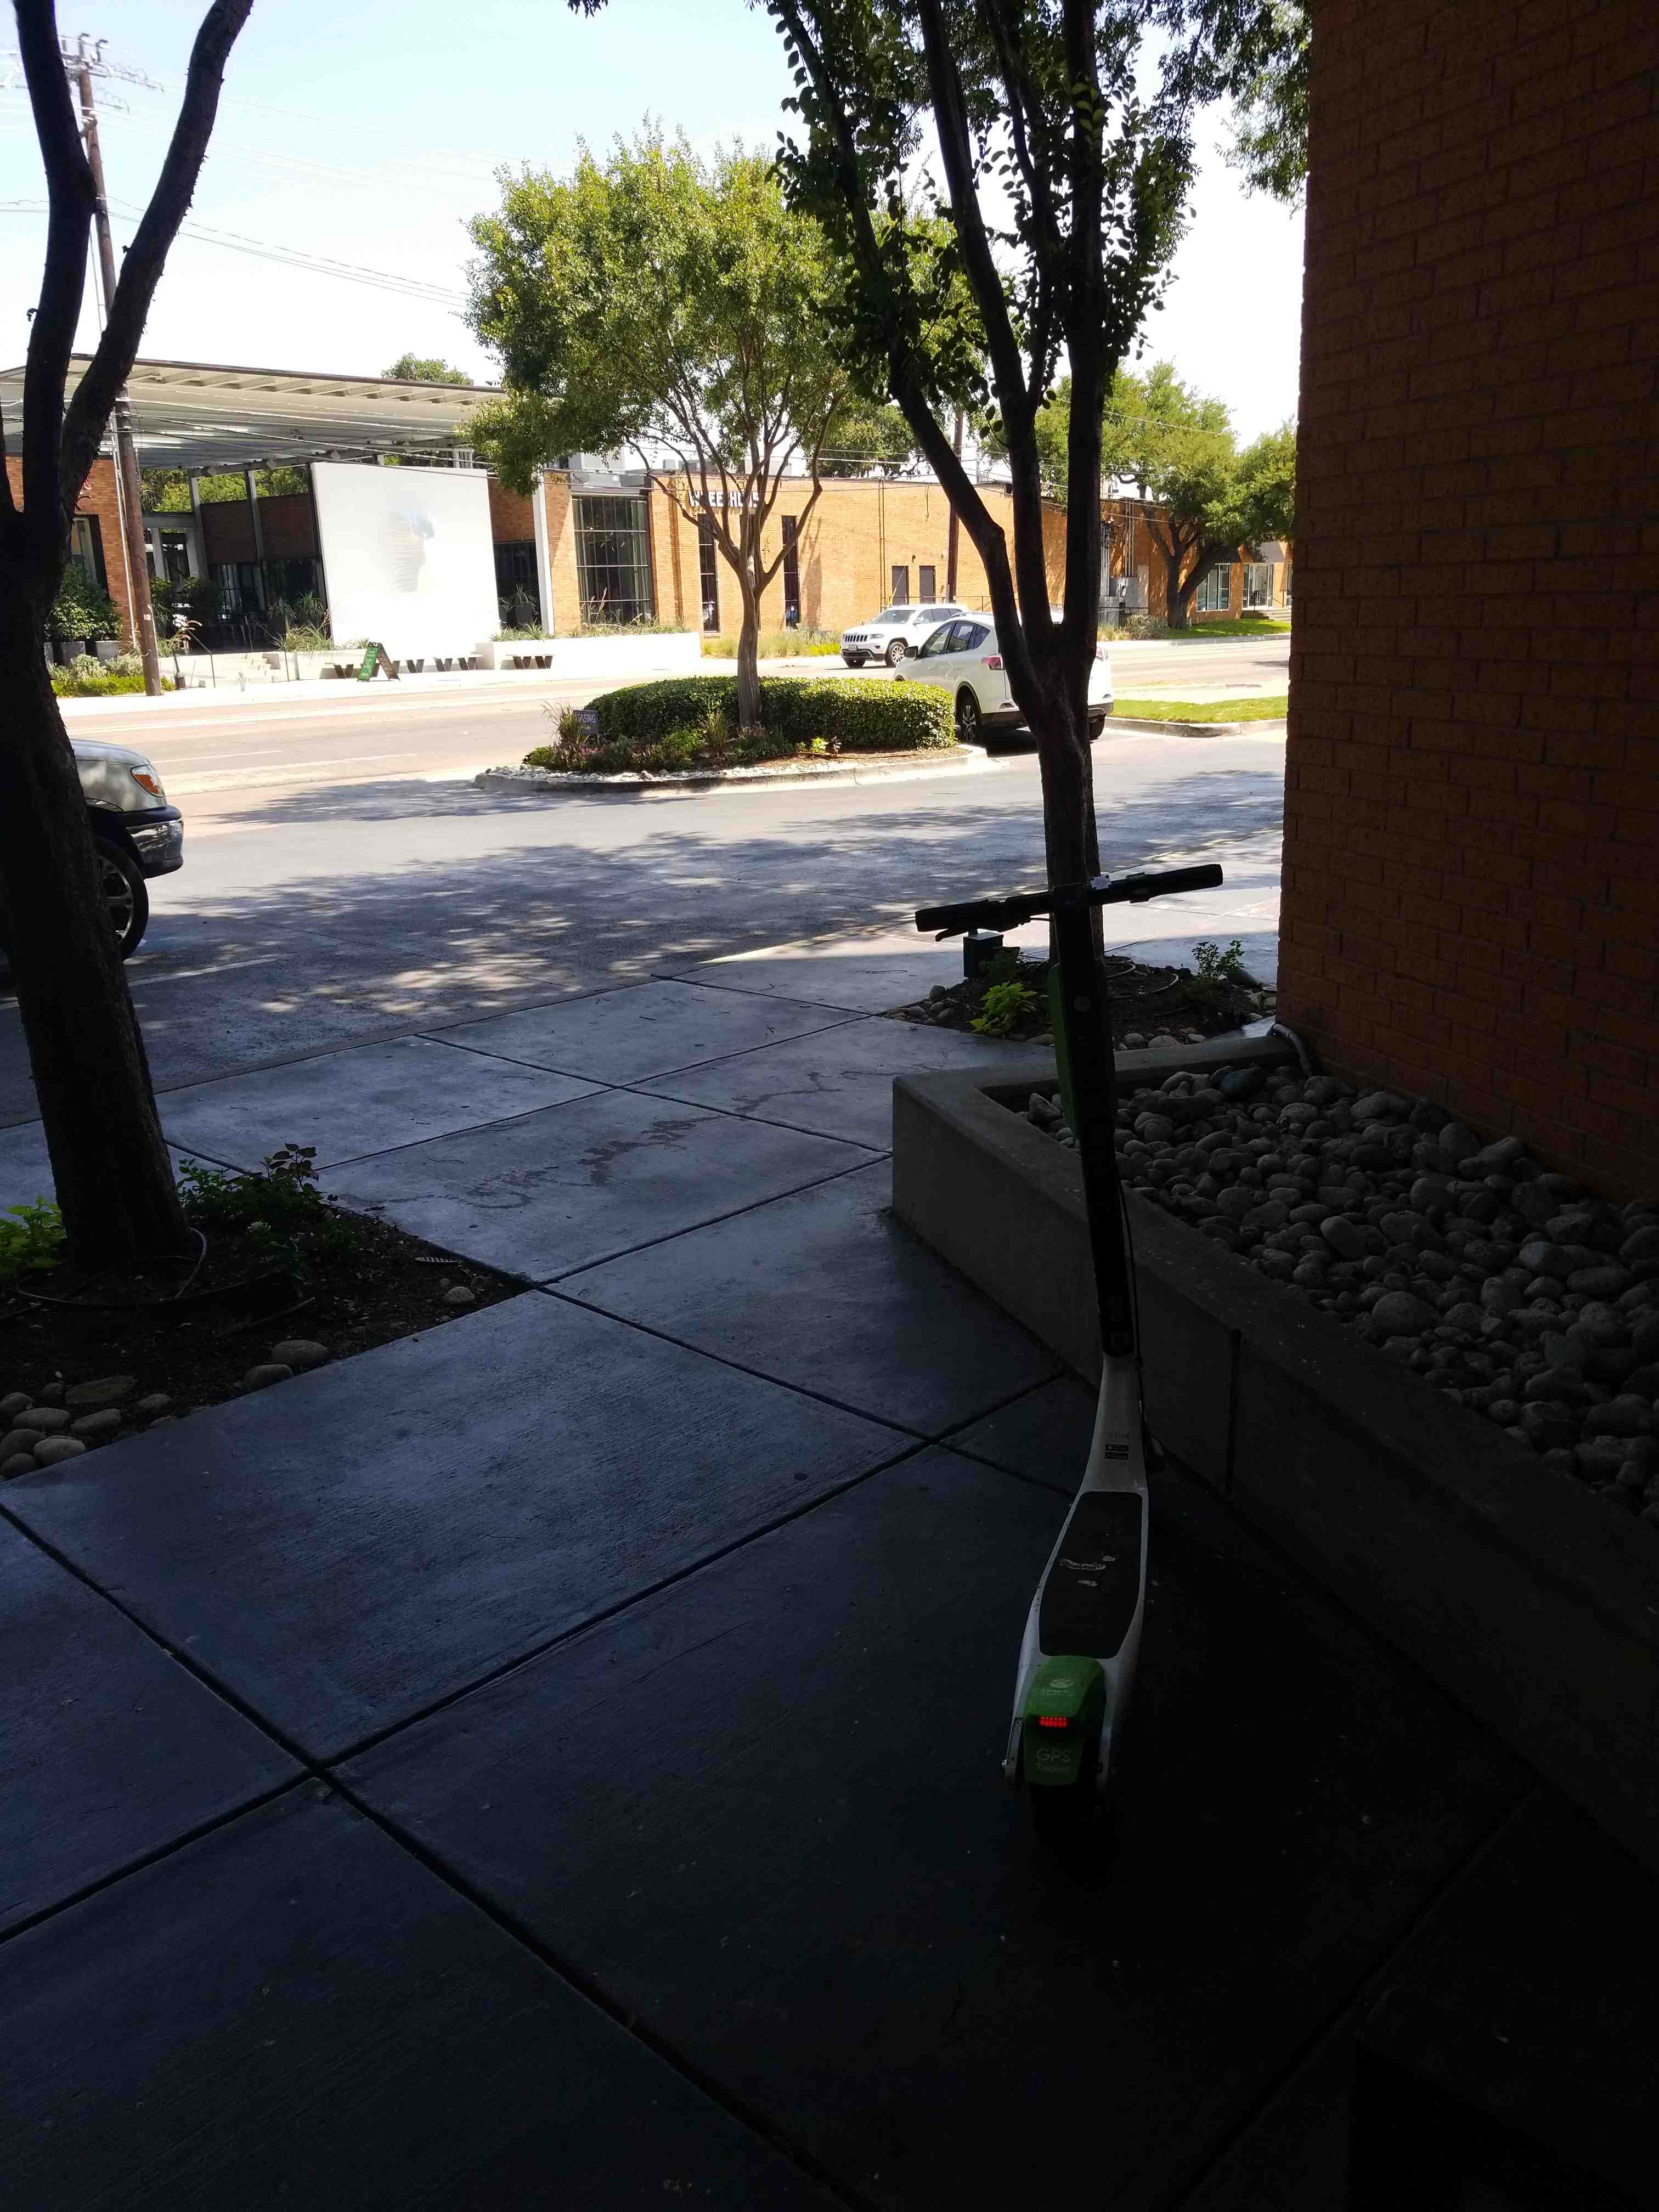scooter: (875, 841, 1286, 1818)
